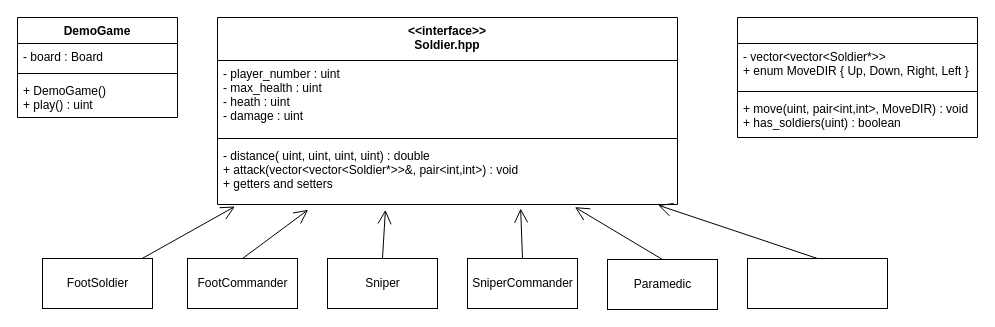
The diagram is 995 pixels wide and 327 high, and some of its shapes have lost their labels. The box of each missing label's shape, as (x1, y1, x2, y2) in pixels:
Board.cpp: (736, 16, 978, 138)
ParamedicCommander: (746, 258, 888, 308)
